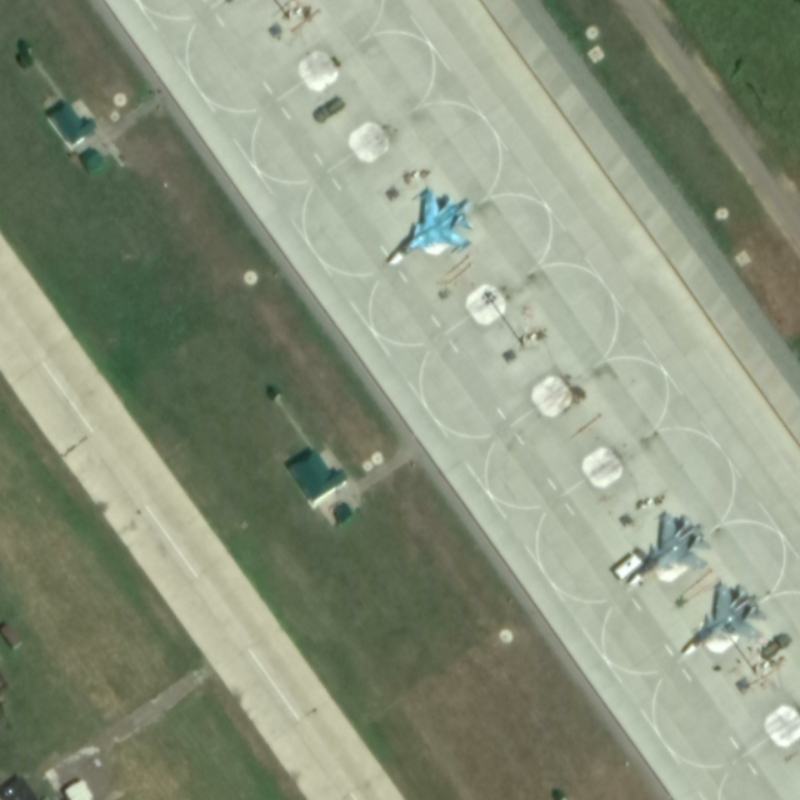A19: (385, 185, 476, 267), (625, 509, 713, 588), (681, 580, 767, 658)
